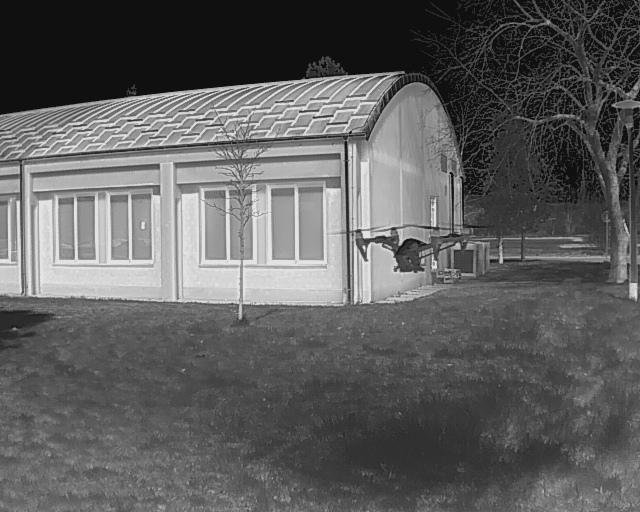drone: (322, 204, 501, 299)
